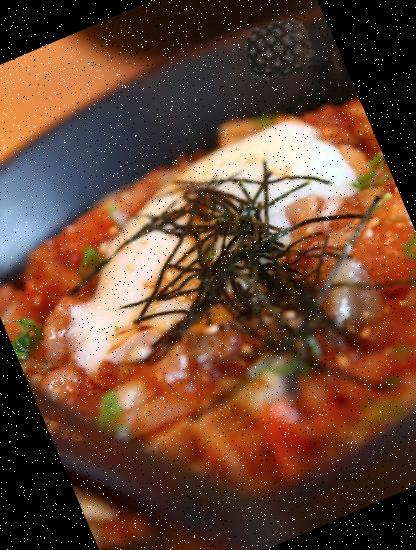Pineapple: (235, 5, 324, 93)
